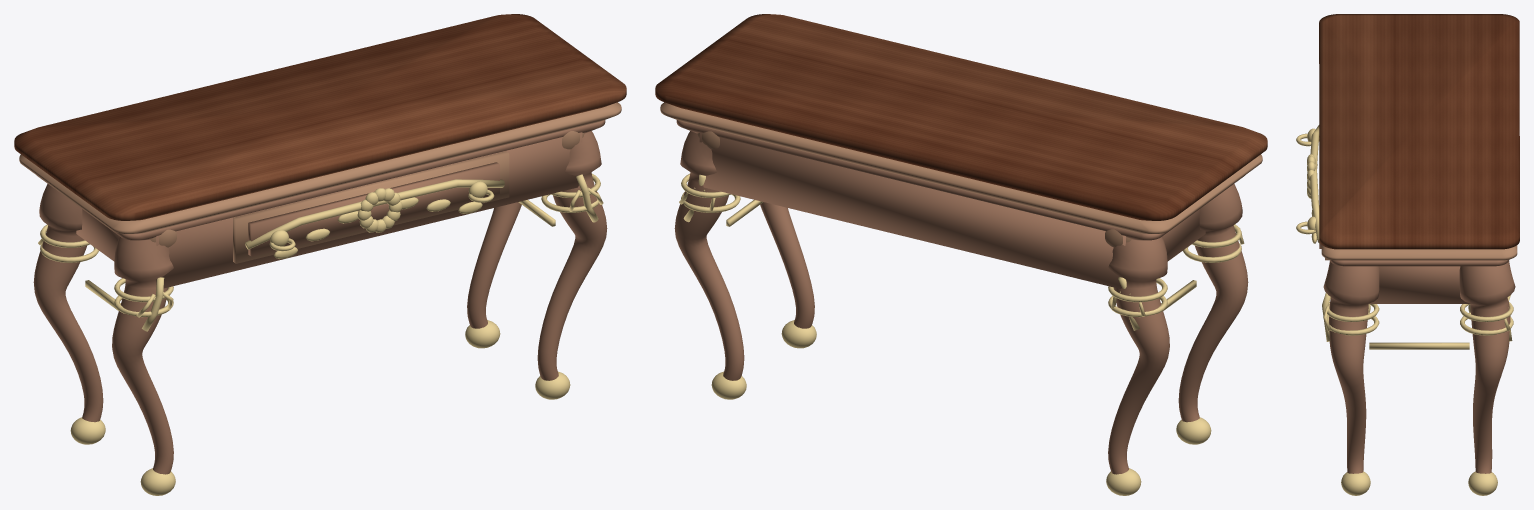
Rendered from console_walnut_3d.glb.
3 views of the same model, side by side, from view 1: azimuth 30°, elevation 25°; view 2: azimuth 150°, elevation 25°; view 3: azimuth 270°, elevation 25° (orthographic). The views are drawn at different scales.
Visible parts, largest first — view 1: textured_surface_0, 3D_walnut, 3D_walnut_edge, 3D_gilt; view 2: textured_surface_0, 3D_walnut, 3D_walnut_edge, 3D_gilt; view 3: textured_surface_0, 3D_walnut, 3D_gilt, 3D_walnut_edge.
Part boxes in pixels (<box>): textured_surface_0: <box>14,14,626,220</box>; 3D_walnut: <box>33,120,607,474</box>; 3D_walnut_edge: <box>19,102,621,263</box>; 3D_gilt: <box>38,173,603,495</box>; textured_surface_0: <box>655,14,1267,220</box>; 3D_walnut: <box>674,120,1248,474</box>; 3D_walnut_edge: <box>660,102,1262,247</box>; 3D_gilt: <box>679,173,1244,495</box>; textured_surface_0: <box>1319,14,1519,249</box>; 3D_walnut: <box>1319,243,1515,473</box>; 3D_gilt: <box>1296,125,1513,495</box>; 3D_walnut_edge: <box>1321,245,1517,260</box>.
Size of the model in its own units: 1.46 by 0.837 by 0.602.
4 materials, 1 textured.
